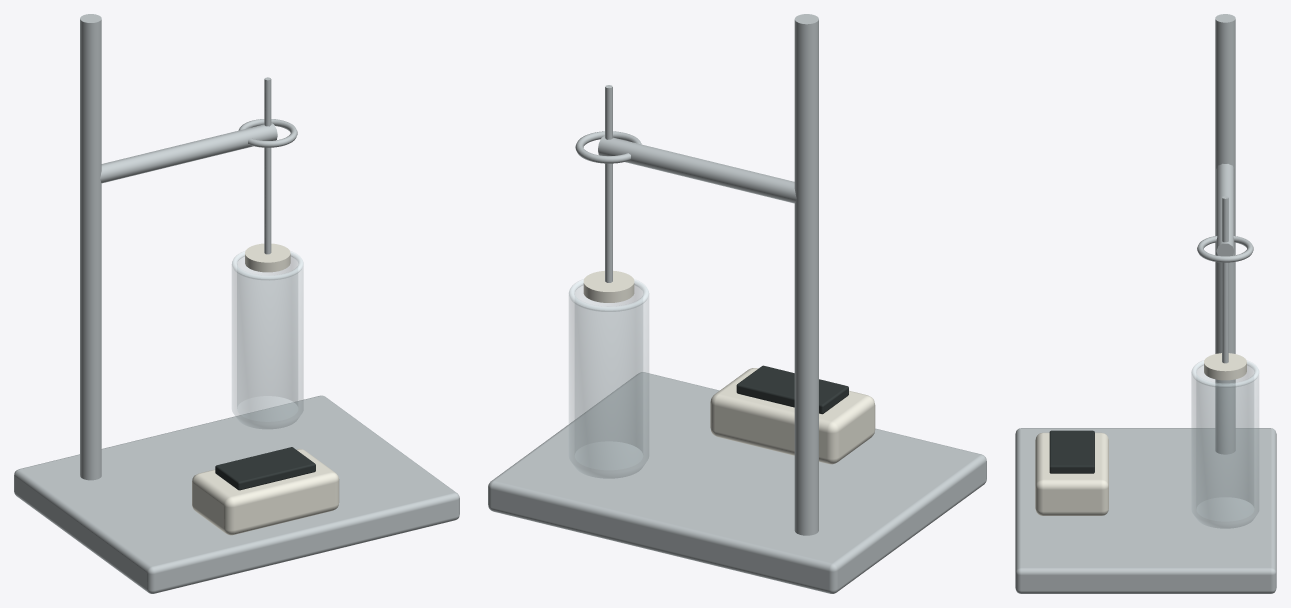
The model's file is cheesemaking-and-dairy-cellar-acidity-test-stand-40e70afc__30882.glb.
The picture shows the model from 3 angles, left to right: view 1: azimuth 30°, elevation 25°; view 2: azimuth 150°, elevation 25°; view 3: azimuth 270°, elevation 25°; orthographic projection. The views are drawn at different scales.
Parts seen in each view (by area): view 1: acidity-test-stand; view 2: acidity-test-stand; view 3: acidity-test-stand.
Part boxes in pixels (x1,y1,x2,y2): acidity-test-stand: (14, 14, 459, 593); acidity-test-stand: (488, 14, 986, 593); acidity-test-stand: (1015, 14, 1276, 593).
Bounding box in the file's own units: 0.3 × 0.445 × 0.23.
